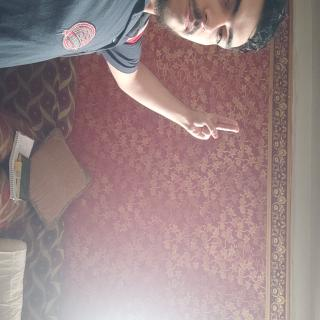TA: (84, 103, 110, 184)
